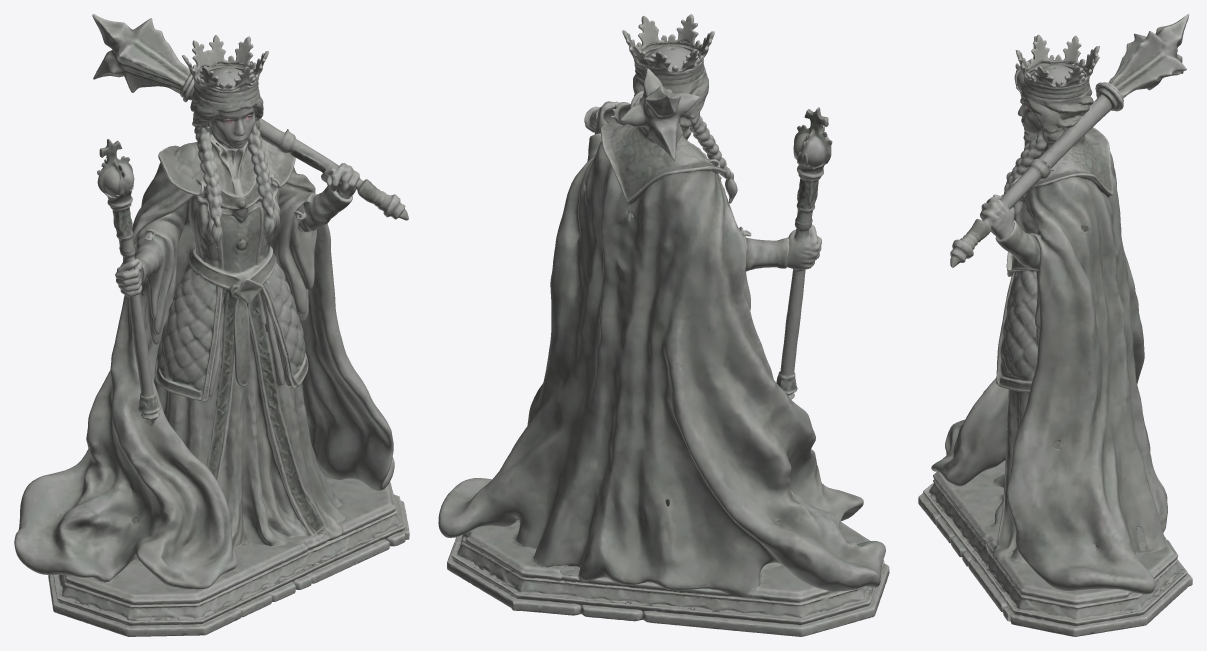
The model's file is queen_high.glb.
3 renders of one model, left to right at view 1: azimuth 30°, elevation 25°; view 2: azimuth 150°, elevation 25°; view 3: azimuth 270°, elevation 25°, orthographic. The views are drawn at different scales.
Visible parts, largest first — view 1: geometry_0; view 2: geometry_0; view 3: geometry_0.
Boxes of the visible parts, box(x1,y1,x2,y2) form: geometry_0: box(14, 14, 409, 636); geometry_0: box(438, 14, 889, 636); geometry_0: box(918, 14, 1192, 636).
Bounding box in the file's own units: 0.785 × 0.9956 × 0.4904.
Materials: 1 (1 with a texture image).
